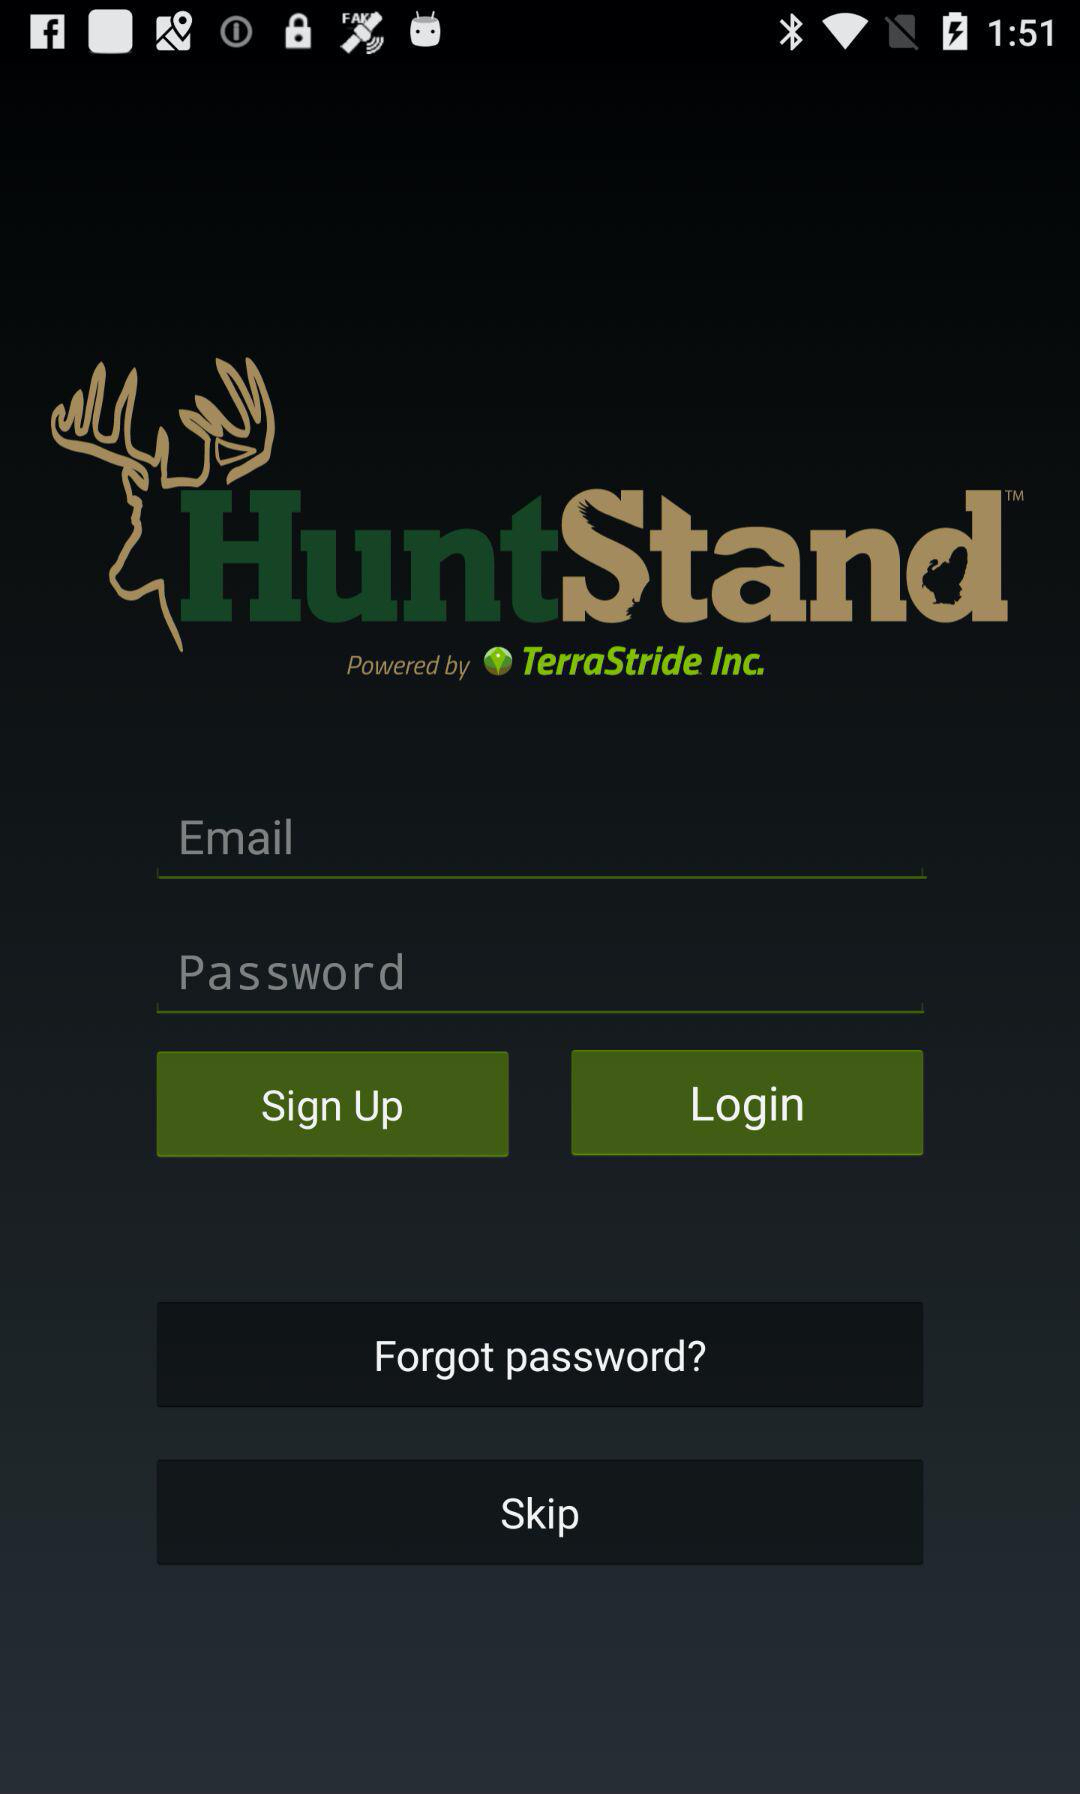EditText: (156, 818, 928, 882), (156, 953, 925, 1016)
Image: (50, 356, 1026, 679)
Text: (181, 953, 404, 993), (179, 819, 293, 857)
TextButton: (158, 1301, 924, 1408), (158, 1460, 924, 1566), (156, 1051, 510, 1158), (571, 1049, 925, 1157)
UpperTaskBar: (1, 1, 1080, 64)
